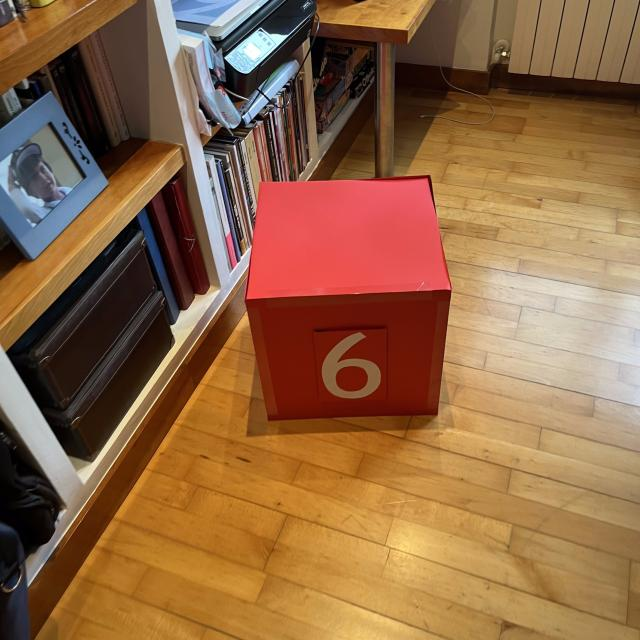box: (241, 171, 455, 423)
